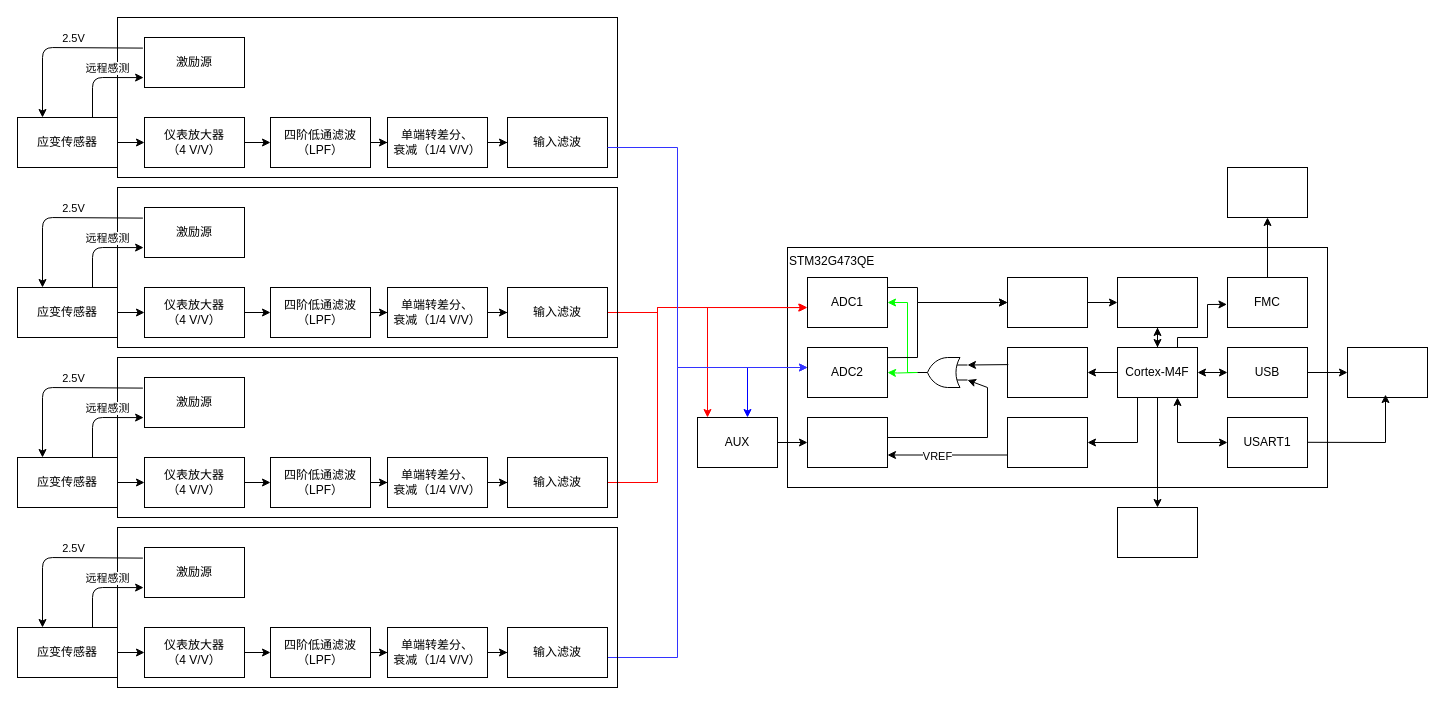
The diagram is 1445 pixels wide and 705 high, and some of its shapes have lost their labels. The centre of each missing label's shape, as x and y in pixels:
"COMP" goes at (847,442).
"DAC" goes at (1047,442).
"DMA" goes at (1047,302).
"QSPI Flash" goes at (1157,532).
"RAM" goes at (1157,302).
"SRAM" goes at (1267,192).
"TIM2" goes at (1047,372).
"USB Type-A" goes at (1387,372).
